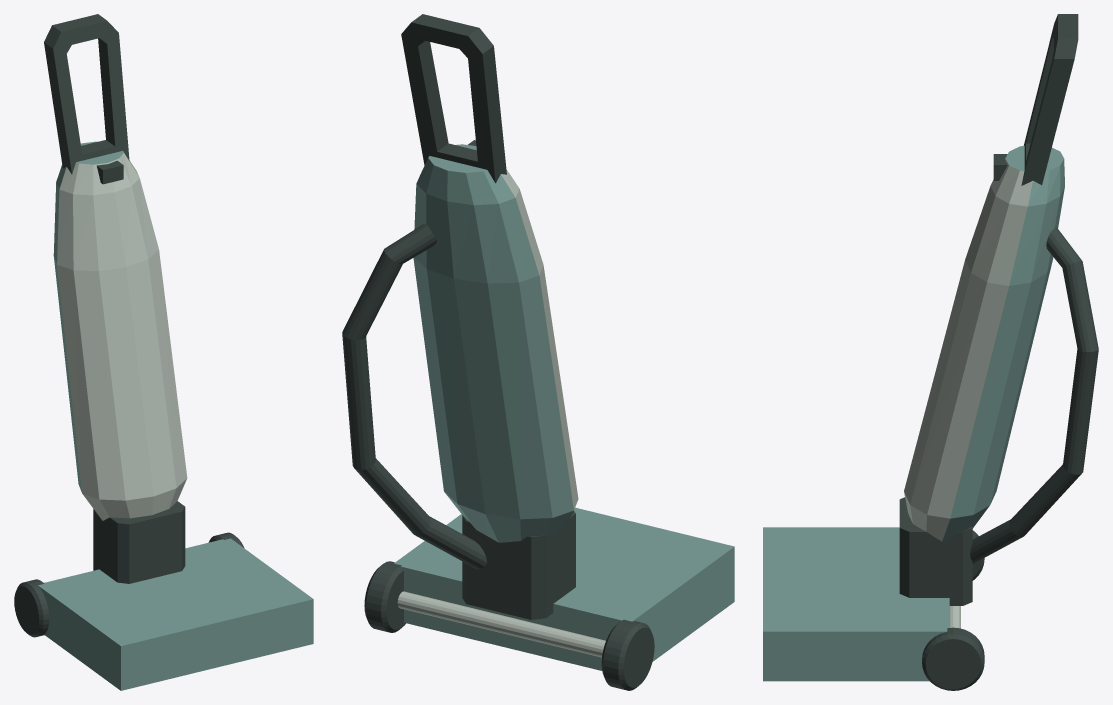
3 renders of one model, left to right at view 1: azimuth 30°, elevation 25°; view 2: azimuth 150°, elevation 25°; view 3: azimuth 270°, elevation 25°, orthographic. The views are drawn at different scales.
Visible parts, largest first — view 1: WholeLeaningDustBodyExterior, WholeWideOpenUndersideFloorHead, WholeOpenUpperHandLoop, WholeFixedRearNeck, WholeRearGroundWheel_-0.204, WholeBlankUpperControl; view 2: WholeLeaningDustBodyExterior, WholeWideOpenUndersideFloorHead, WholeAttachedShortRearReturnTube, WholeOpenUpperHandLoop, WholeFixedRearNeck, WholeTransverseRearAxle, WholeRearGroundWheel_-0.204, WholeRearGroundWheel_0.204; view 3: WholeLeaningDustBodyExterior, WholeWideOpenUndersideFloorHead, WholeAttachedShortRearReturnTube, WholeFixedRearNeck, WholeOpenUpperHandLoop, WholeRearGroundWheel_0.204.
Part boxes in pixels (x1=…): WholeLeaningDustBodyExterior: x1=53, y1=141, x2=187, y2=520; WholeWideOpenUndersideFloorHead: x1=38, y1=538, x2=313, y2=690; WholeOpenUpperHandLoop: x1=44, y1=14, x2=129, y2=174; WholeFixedRearNeck: x1=93, y1=501, x2=185, y2=583; WholeRearGroundWheel_-0.204: x1=14, y1=579, x2=49, y2=637; WholeBlankUpperControl: x1=97, y1=160, x2=123, y2=184; WholeLeaningDustBodyExterior: x1=413, y1=144, x2=578, y2=542; WholeWideOpenUndersideFloorHead: x1=394, y1=507, x2=734, y2=670; WholeAttachedShortRearReturnTube: x1=342, y1=224, x2=486, y2=569; WholeOpenUpperHandLoop: x1=401, y1=14, x2=506, y2=183; WholeFixedRearNeck: x1=462, y1=511, x2=575, y2=619; WholeTransverseRearAxle: x1=397, y1=591, x2=605, y2=657; WholeRearGroundWheel_-0.204: x1=601, y1=619, x2=654, y2=690; WholeRearGroundWheel_0.204: x1=364, y1=561, x2=405, y2=632; WholeLeaningDustBodyExterior: x1=904, y1=145, x2=1064, y2=541; WholeWideOpenUndersideFloorHead: x1=763, y1=527, x2=949, y2=681; WholeAttachedShortRearReturnTube: x1=970, y1=227, x2=1098, y2=563; WholeFixedRearNeck: x1=899, y1=497, x2=972, y2=605; WholeOpenUpperHandLoop: x1=1021, y1=14, x2=1078, y2=185; WholeRearGroundWheel_0.204: x1=922, y1=627, x2=984, y2=690.
Size of the model in its own units: 0.446 by 1.12 by 0.5578.
